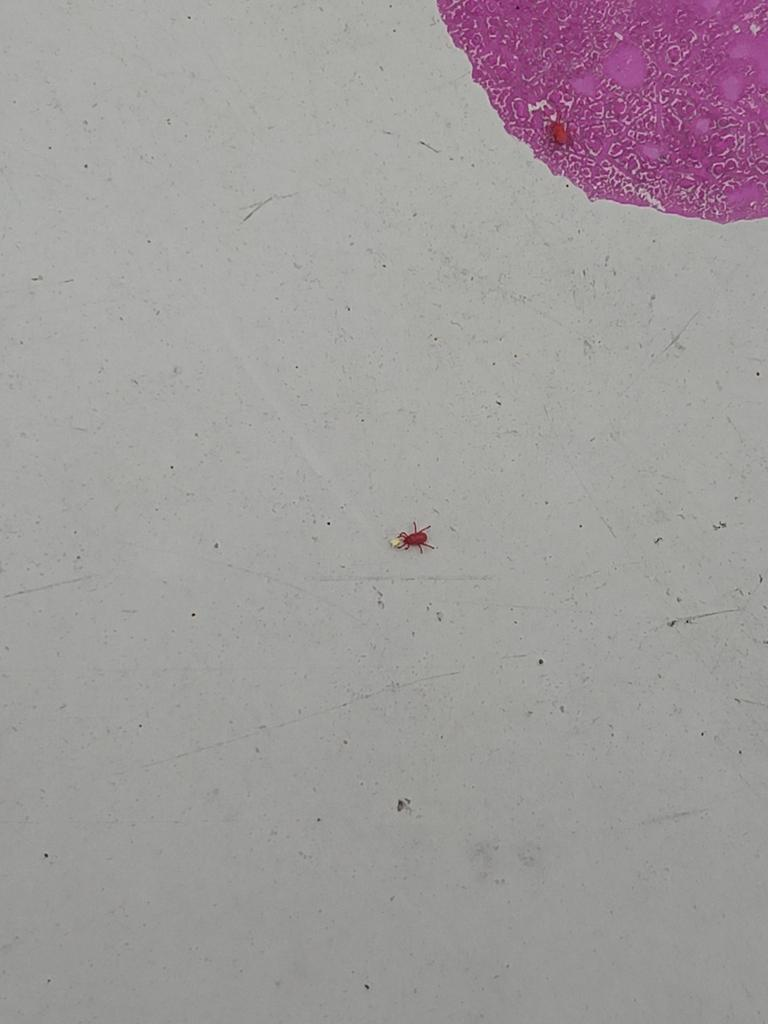tiny_pests: (378, 504, 446, 572), (532, 113, 578, 158)
